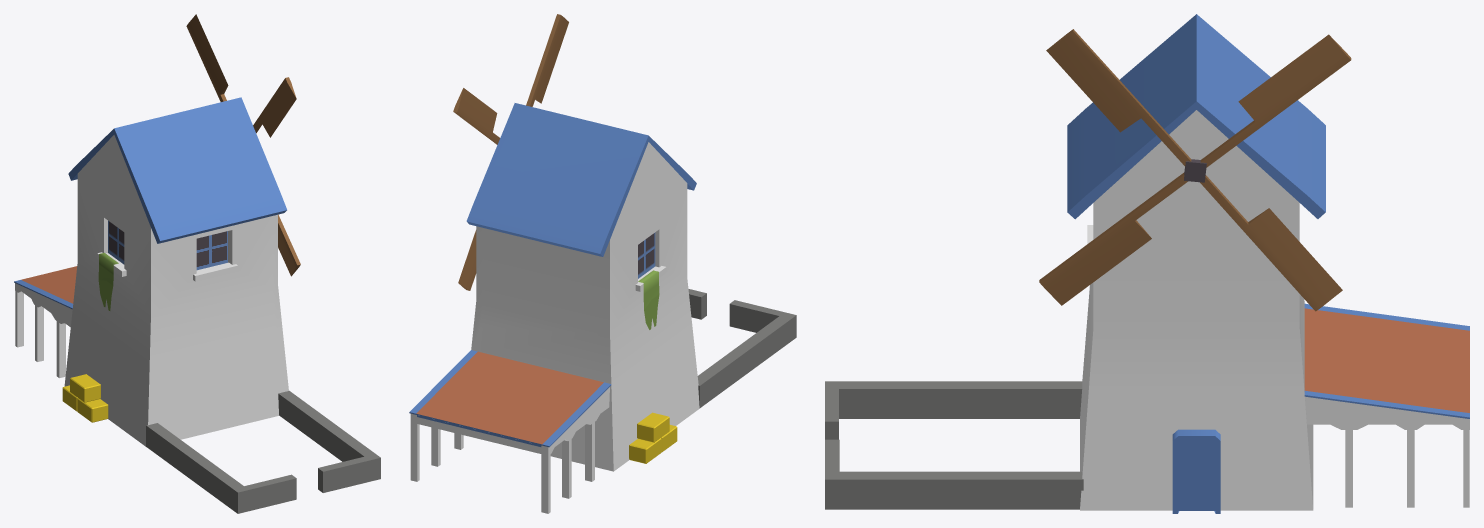
File: farm.fbx
The picture shows the model from 3 angles, left to right: view 1: azimuth 30°, elevation 25°; view 2: azimuth 150°, elevation 25°; view 3: azimuth 270°, elevation 25°; orthographic projection. The views are drawn at different scales.
Parts seen in each view (by area): view 1: pCube14, pCube9, pCylinder2, pCube18, pPlane1, pCube17; view 2: pCube14, pCube9, pCylinder2, pCube18, pPlane1; view 3: pCube14, pCube9, pCylinder2, pCube6.
Boxes of the visible parts, x1=… form: pCube14: x1=14, y1=97, x2=288, y2=446; pCube9: x1=146, y1=390, x2=380, y2=513; pCylinder2: x1=186, y1=14, x2=300, y2=276; pCube18: x1=62, y1=374, x2=108, y2=422; pPlane1: x1=98, y1=252, x2=118, y2=310; pCube17: x1=193, y1=262, x2=237, y2=281; pCube14: x1=409, y1=103, x2=699, y2=513; pCube9: x1=688, y1=289, x2=796, y2=407; pCylinder2: x1=453, y1=14, x2=568, y2=290; pCube18: x1=629, y1=412, x2=677, y2=463; pPlane1: x1=638, y1=270, x2=659, y2=329; pCube14: x1=1067, y1=14, x2=1469, y2=510; pCube9: x1=825, y1=381, x2=1083, y2=509; pCylinder2: x1=1039, y1=29, x2=1351, y2=311; pCube6: x1=1172, y1=429, x2=1220, y2=513.
Size of the model in its own units: 6.55 by 12.76 by 15.62.
